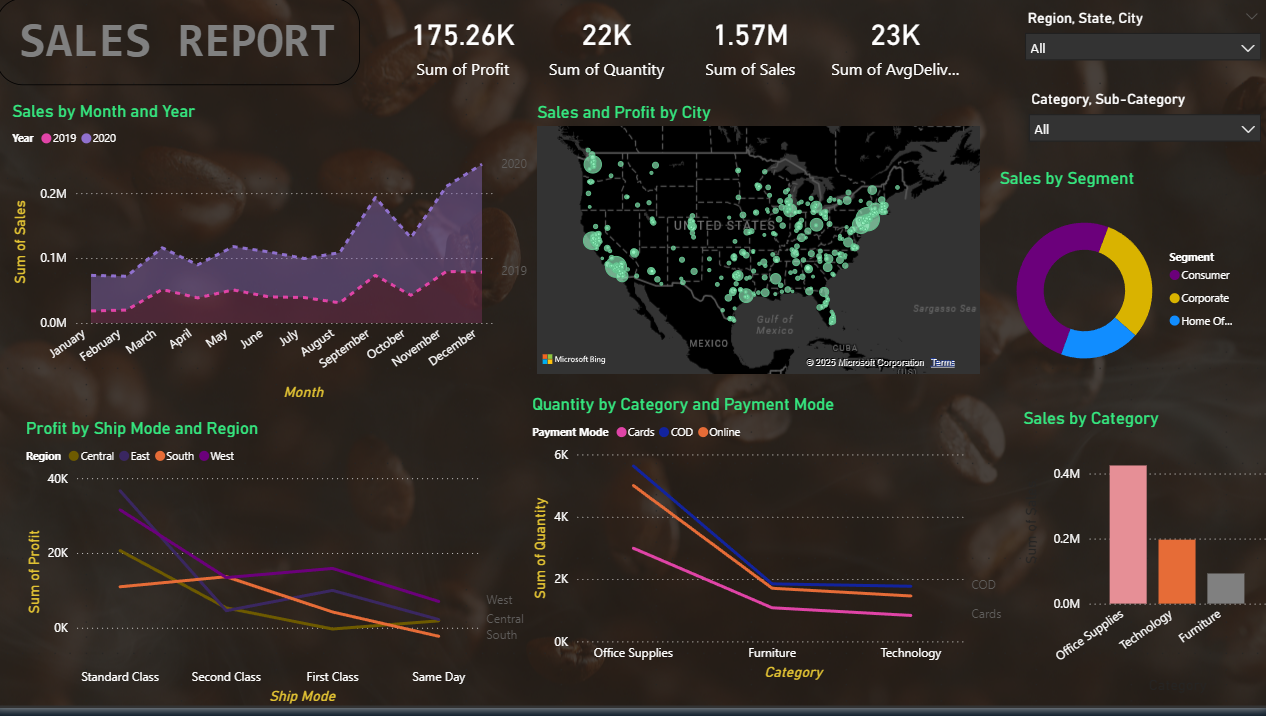

The page's visual inventory and layout, read from the dashboard file:
{"tool":"powerbi","page":{"name":"Page 1","canvas":[1280,720],"ordinal":0},"visuals":[{"type":"textbox","box":[5,10,363.8,87.5],"z":0},{"type":"map","title":"Sales and Profit by City","fields":{"Category":["SuperStore_Sales_Dataset.City"],"Size":["Sum(SuperStore_Sales_Dataset.Sales)"]},"box":[541,113.7,452.6,276.8],"z":1000},{"type":"columnChart","title":"Sales by Category ","fields":{"Category":["SuperStore_Sales_Dataset.Category"],"Y":["Sum(SuperStore_Sales_Dataset.Sales)"]},"box":[1026.9,420.4,252.7,290.6],"z":2000},{"type":"slicer","fields":{"Values":["SuperStore_Sales_Dataset.Region","SuperStore_Sales_Dataset.State","SuperStore_Sales_Dataset.City"]},"box":[1024,16,256,96],"z":3000},{"type":"slicer","fields":{"Values":["SuperStore_Sales_Dataset.Category","SuperStore_Sales_Dataset.Sub-Category"]},"box":[1027.5,97.5,252.5,75],"z":4000},{"type":"stackedAreaChart","title":"Sales by Month and Year","fields":{"Category":["SuperStore_Sales_Dataset.Order Date.Variation.Date Hierarchy.Month"],"Y":["Sum(SuperStore_Sales_Dataset.Sales)"],"Series":["SuperStore_Sales_Dataset.Order Date.Variation.Date Hierarchy.Year"]},"box":[16,112,528,304],"z":5000},{"type":"donutChart","title":"Sales by Segment","fields":{"Y":["Sum(SuperStore_Sales_Dataset.Quantity)"],"Category":["SuperStore_Sales_Dataset.Segment"]},"box":[1004,180.3,252.7,226.3],"z":6000},{"type":"lineChart","title":"Profit by Ship Mode and Region","fields":{"Category":["SuperStore_Sales_Dataset.Ship Mode"],"Y":["Sum(SuperStore_Sales_Dataset.Profit)"],"Series":["SuperStore_Sales_Dataset.Region"]},"box":[29.9,429.6,511.2,290.6],"z":7000},{"type":"lineChart","title":"Quantity by Category and Payment Mode","fields":{"Category":["SuperStore_Sales_Dataset.Category"],"Y":["Sum(SuperStore_Sales_Dataset.Quantity)"],"Series":["SuperStore_Sales_Dataset.Payment Mode"]},"box":[536.4,406.6,487,290.6],"z":8000},{"type":"card","fields":{"Values":["Sum(SuperStore_Sales_Dataset.Profit)"]},"box":[400,16,144,80],"z":9000},{"type":"card","fields":{"Values":["Sum(SuperStore_Sales_Dataset.Quantity)"]},"box":[544,16,144,80],"z":10000},{"type":"card","fields":{"Values":["Sum(SuperStore_Sales_Dataset.Sales)"]},"box":[688,16,144,80],"z":11000},{"type":"card","fields":{"Values":["Sum(SuperStore_Sales_Dataset.AvgDeliveryTime)"]},"box":[832,16,144,80],"z":12000}]}

Visuals, with their boxes in screenshot pixels (x1, y1, x2, y2), scaled from the page's 1280x720 canvas onto the 1266x716 screenshot:
textbox: rect(5, 10, 365, 97)
"Sales and Profit by City" map: rect(535, 113, 983, 388)
"Sales by Category " columnChart: rect(1016, 418, 1265, 707)
slicer - SuperStore_Sales_Dataset.Region x SuperStore_Sales_Dataset.State: rect(1013, 16, 1265, 111)
slicer - SuperStore_Sales_Dataset.Category x SuperStore_Sales_Dataset.Sub-Category: rect(1016, 97, 1265, 172)
"Sales by Month and Year" stackedAreaChart: rect(16, 111, 538, 414)
"Sales by Segment" donutChart: rect(993, 179, 1243, 404)
"Profit by Ship Mode and Region" lineChart: rect(30, 427, 535, 715)
"Quantity by Category and Payment Mode" lineChart: rect(531, 404, 1012, 693)
card - Sum(SuperStore_Sales_Dataset.Profit): rect(396, 16, 538, 95)
card - Sum(SuperStore_Sales_Dataset.Quantity): rect(538, 16, 680, 95)
card - Sum(SuperStore_Sales_Dataset.Sales): rect(680, 16, 823, 95)
card - Sum(SuperStore_Sales_Dataset.AvgDeliveryTime): rect(823, 16, 965, 95)
